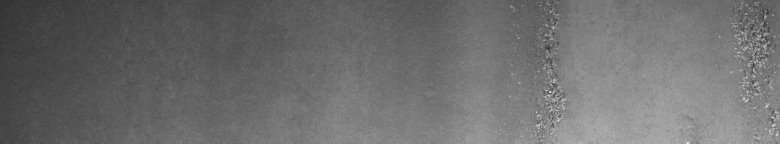hc: (727, 4, 776, 136)
